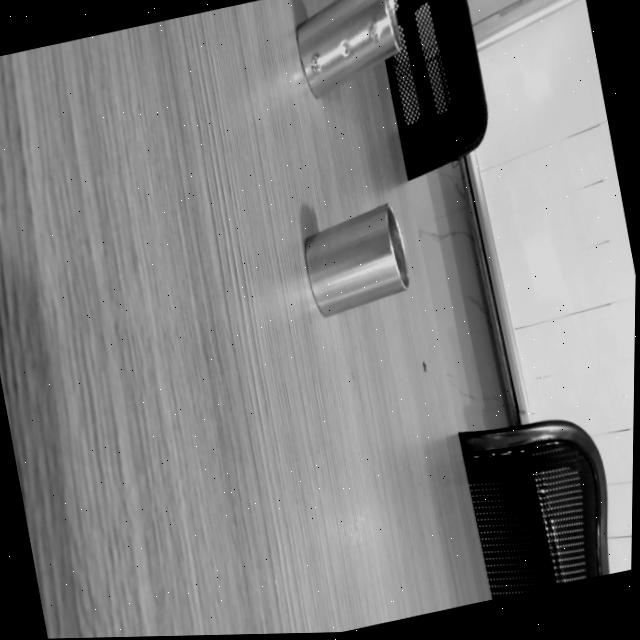Co_Nho: (292, 203, 419, 320)
